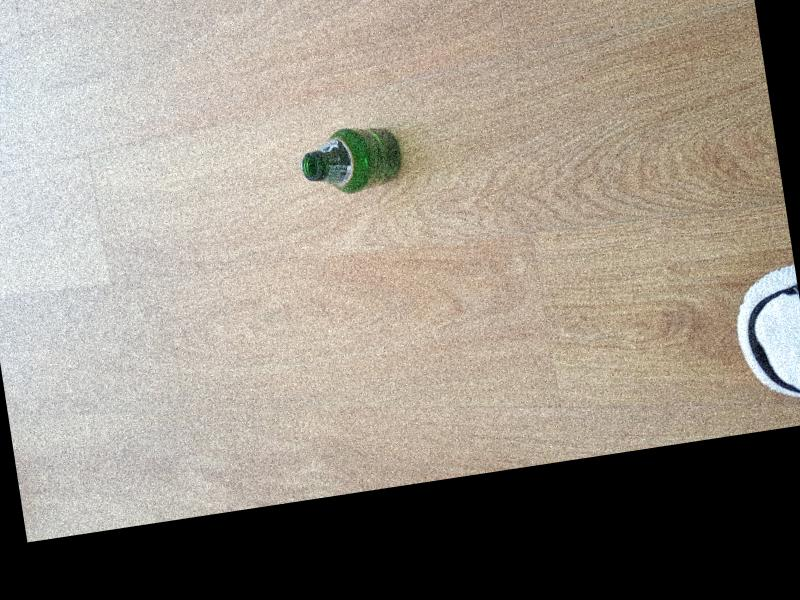Beer: (297, 122, 407, 204)
